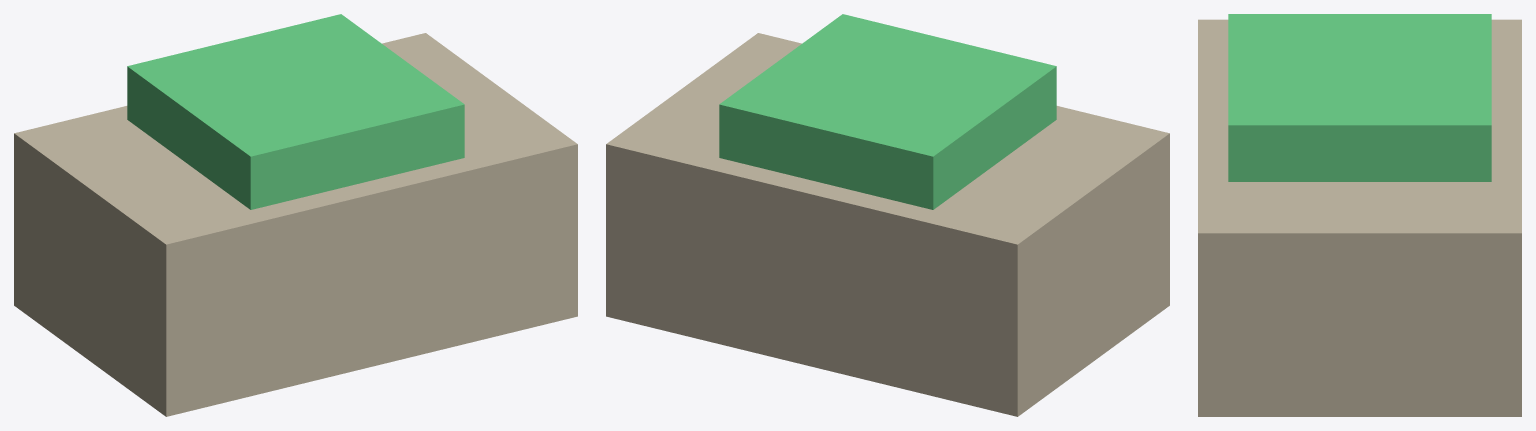
Rendered from 080_L103_LED3.glb.
The picture shows the model from 3 angles, left to right: view 1: azimuth 30°, elevation 25°; view 2: azimuth 150°, elevation 25°; view 3: azimuth 270°, elevation 25°; orthographic projection. The views are drawn at different scales.
Parts seen in each view (by area): view 1: LED_Case, LED_Lens; view 2: LED_Case, LED_Lens; view 3: LED_Case, LED_Lens.
Boxes of the visible parts, x1,y1,x2,y2 form: LED_Case: (14,33,577,416); LED_Lens: (127,14,464,209); LED_Case: (606,33,1169,416); LED_Lens: (719,14,1056,209); LED_Case: (1198,19,1521,416); LED_Lens: (1228,14,1491,181).
Size of the model in its own units: 0.0025 by 0.00131 by 0.0016.
